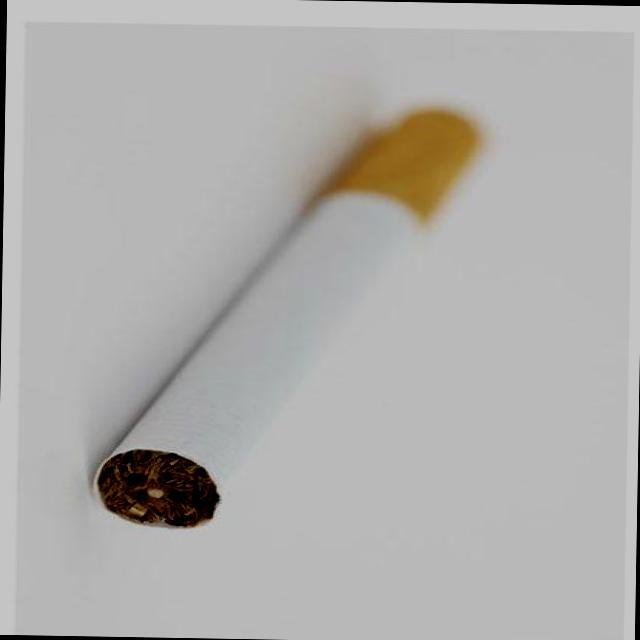cigarette: (78, 96, 486, 540)
